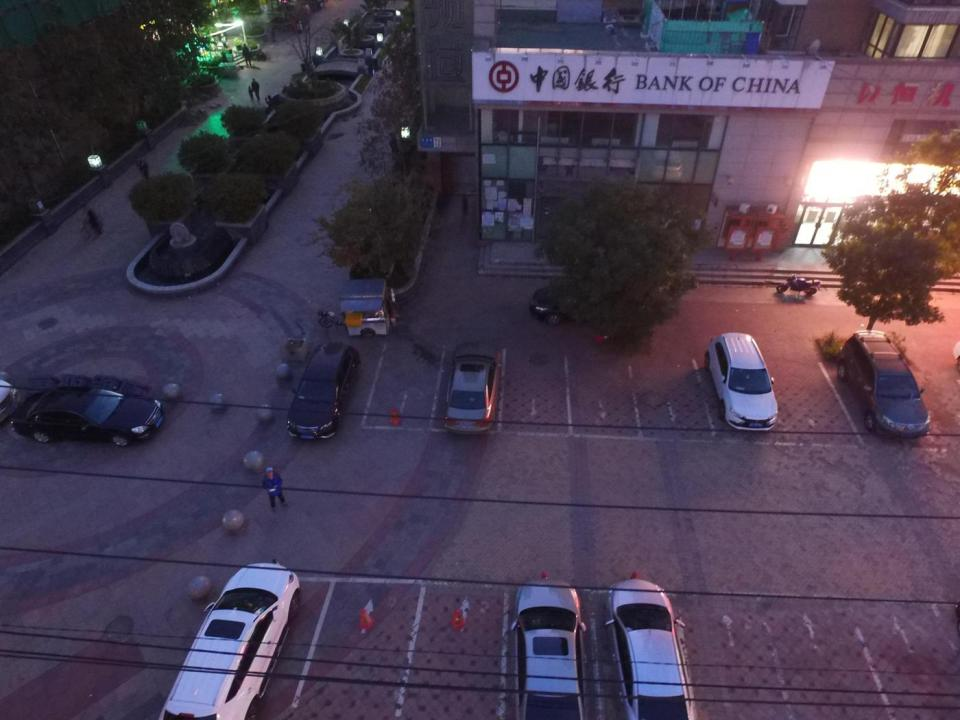car: (601, 577, 698, 720), (507, 578, 588, 720), (14, 384, 168, 444), (700, 330, 779, 433), (286, 338, 360, 435), (528, 273, 644, 324), (443, 340, 500, 435)
van: (156, 557, 301, 720), (840, 331, 931, 438)
